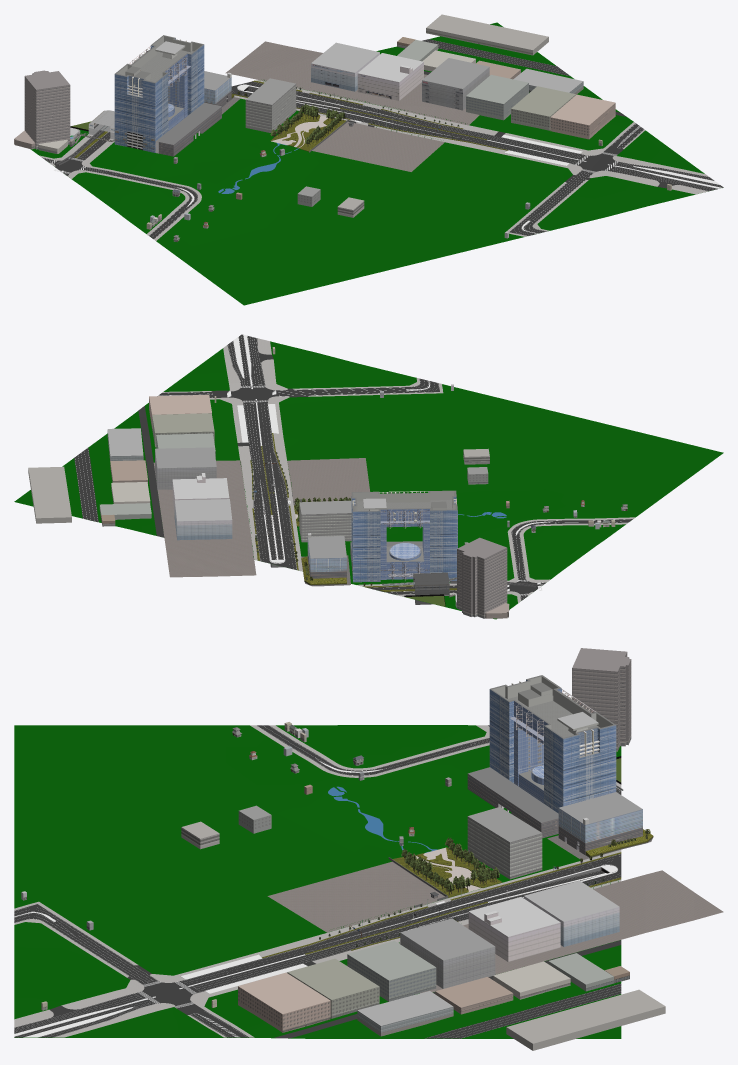
The picture shows the model from 3 angles, top to bottom: view 1: azimuth 30°, elevation 25°; view 2: azimuth 150°, elevation 25°; view 3: azimuth 270°, elevation 25°; orthographic projection. The views are drawn at different scales.
Parts seen in each view (by area): view 1: 005339_06885_ground, 005339_06885_road, 005339_06885_65000G_-9010501_build5Fto10F, 005339_06885_facilli, 005339_06885_walk, 005339_06885_66000G_-9989901_build10Fover, 005339_06885_64000G_-9734401_build5Funder, 005339_06885_65000G_-9750501_build5Fto10F, 005339_06885_65000G_-9000501_build5Fto10F, 005339_06885_facilligreen, 005339_06885_61000G_-10010101_buildtarget, 005339_06885_64000G_-9750401_build5Funder (+9 smaller); view 2: 005339_06885_ground, 005339_06885_road, 005339_06885_facilli, 005339_06885_65000G_-9010501_build5Fto10F, 005339_06885_walk, 005339_06885_66000G_-9989901_build10Fover, 005339_06885_64000G_-9750401_build5Funder, 005339_06885_64000G_-9734401_build5Funder, 005339_06885_65000G_-9000501_build5Fto10F, 005339_06885_61000G_-10010101_buildtarget, 005339_06885_roadstrip, 005339_06885_61000G_-9010401_buildtarget (+10 smaller); view 3: 005339_06885_ground, 005339_06885_road, 005339_06885_65000G_-9010501_build5Fto10F, 005339_06885_facilli, 005339_06885_walk, 005339_06885_64000G_-9734401_build5Funder, 005339_06885_65000G_-9000501_build5Fto10F, 005339_06885_66000G_-9989901_build10Fover, 005339_06885_65000G_-9750501_build5Fto10F, 005339_06885_61000G_-10010101_buildtarget, 005339_06885_61000G_-9010401_buildtarget, 005339_06885_65000G_-9950001_build5Fto10F (+11 smaller).
Boxes of the visible parts, x1=… form: 005339_06885_ground: x1=30, y1=22, x2=704, y2=305; 005339_06885_road: x1=43, y1=39, x2=723, y2=239; 005339_06885_65000G_-9010501_build5Fto10F: x1=114, y1=35, x2=221, y2=156; 005339_06885_facilli: x1=222, y1=41, x2=479, y2=171; 005339_06885_walk: x1=39, y1=80, x2=708, y2=240; 005339_06885_66000G_-9989901_build10Fover: x1=24, y1=70, x2=73, y2=149; 005339_06885_64000G_-9734401_build5Funder: x1=426, y1=14, x2=548, y2=55; 005339_06885_65000G_-9750501_build5Fto10F: x1=357, y1=53, x2=423, y2=100; 005339_06885_65000G_-9000501_build5Fto10F: x1=422, y1=58, x2=489, y2=110; 005339_06885_facilligreen: x1=70, y1=103, x2=347, y2=152; 005339_06885_61000G_-10010101_buildtarget: x1=245, y1=78, x2=296, y2=132; 005339_06885_64000G_-9750401_build5Funder: x1=311, y1=42, x2=379, y2=91; 005339_06885_ground: x1=14, y1=341, x2=723, y2=619; 005339_06885_road: x1=74, y1=334, x2=632, y2=600; 005339_06885_facilli: x1=153, y1=458, x2=370, y2=586; 005339_06885_65000G_-9010501_build5Fto10F: x1=350, y1=490, x2=457, y2=582; 005339_06885_walk: x1=162, y1=338, x2=635, y2=603; 005339_06885_66000G_-9989901_build10Fover: x1=457, y1=537, x2=507, y2=618; 005339_06885_64000G_-9750401_build5Funder: x1=174, y1=499, x2=232, y2=540; 005339_06885_64000G_-9734401_build5Funder: x1=28, y1=466, x2=71, y2=523; 005339_06885_65000G_-9000501_build5Fto10F: x1=155, y1=447, x2=216, y2=489; 005339_06885_61000G_-10010101_buildtarget: x1=299, y1=500, x2=351, y2=542; 005339_06885_roadstrip: x1=233, y1=334, x2=552, y2=592; 005339_06885_61000G_-9010401_buildtarget: x1=307, y1=533, x2=346, y2=579; 005339_06885_ground: x1=14, y1=725, x2=621, y2=1038; 005339_06885_road: x1=14, y1=725, x2=621, y2=1038; 005339_06885_65000G_-9010501_build5Fto10F: x1=467, y1=675, x2=616, y2=838; 005339_06885_facilli: x1=267, y1=829, x2=723, y2=993; 005339_06885_walk: x1=14, y1=725, x2=621, y2=1037; 005339_06885_64000G_-9734401_build5Funder: x1=506, y1=989, x2=665, y2=1050; 005339_06885_65000G_-9000501_build5Fto10F: x1=400, y1=918, x2=495, y2=988; 005339_06885_66000G_-9989901_build10Fover: x1=572, y1=648, x2=631, y2=751; 005339_06885_65000G_-9750501_build5Fto10F: x1=468, y1=897, x2=560, y2=961; 005339_06885_61000G_-10010101_buildtarget: x1=467, y1=807, x2=542, y2=879; 005339_06885_61000G_-9010401_buildtarget: x1=558, y1=792, x2=642, y2=855; 005339_06885_65000G_-9950001_build5Fto10F: x1=238, y1=972, x2=330, y2=1032.
Bounding box in the file's own units: 725 × 108 × 658.
Materials: 16 (16 with a texture image).
